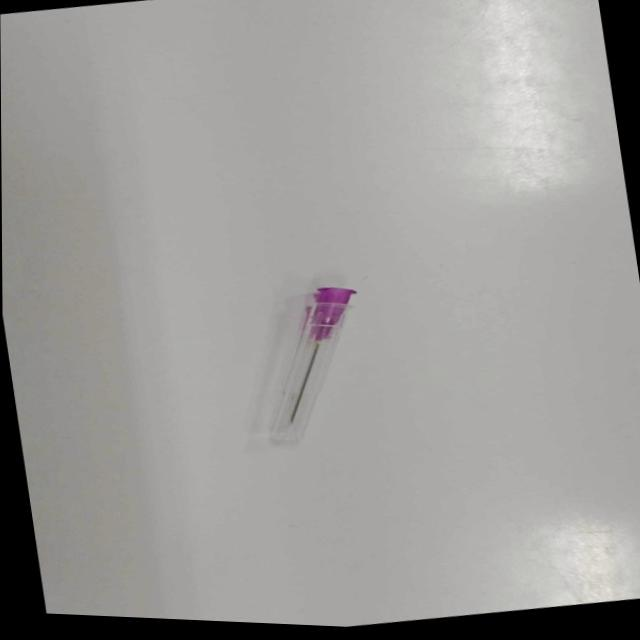Pathological: (3, 0, 639, 628)
Sharps: (256, 284, 359, 445)
